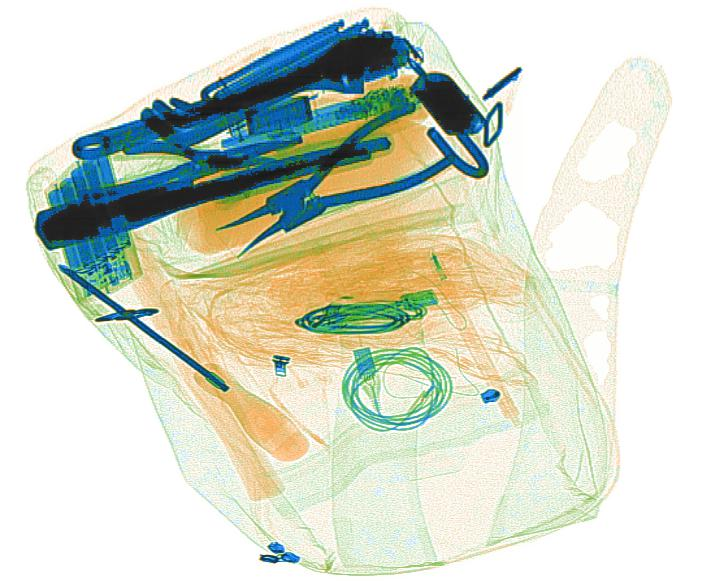battery: (45, 144, 144, 299)
